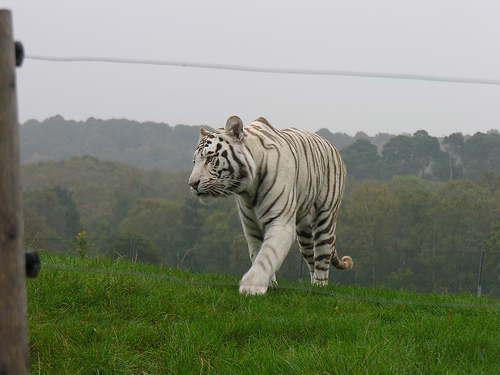Tigre: (186, 105, 369, 302)
